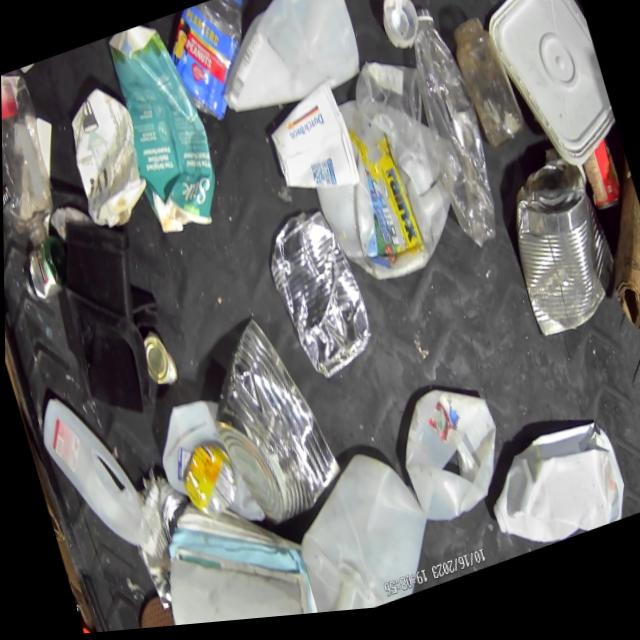can: (186, 298, 351, 548), (488, 151, 631, 364), (255, 197, 381, 395), (171, 435, 245, 531), (574, 136, 628, 231), (133, 325, 182, 400), (150, 486, 197, 552)
milk_jug: (291, 69, 481, 310), (273, 439, 443, 621), (26, 371, 158, 579), (473, 416, 633, 571), (195, 0, 370, 132), (386, 375, 516, 542), (145, 387, 267, 557)
non_white_jug: (99, 12, 234, 257)
plastic_bottle: (391, 0, 514, 276), (1, 63, 74, 261)
